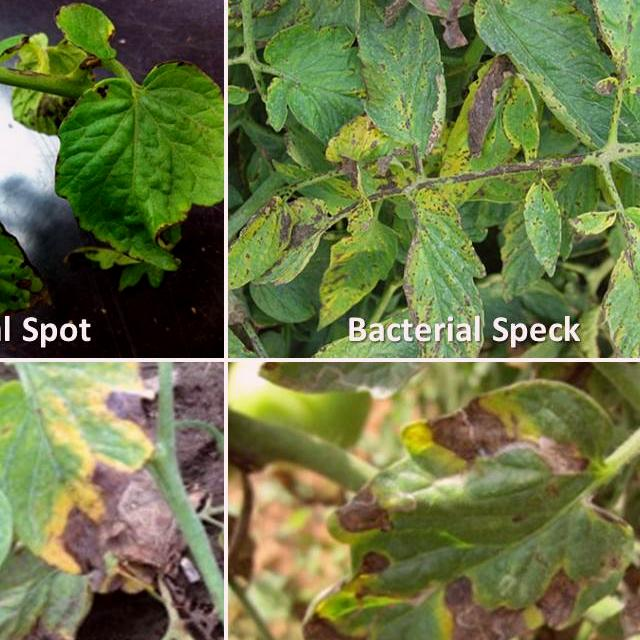Tomato Early blight leaf: (0, 373, 170, 640), (27, 69, 222, 300), (477, 0, 640, 195), (386, 165, 493, 353), (343, 0, 457, 171), (0, 71, 46, 339), (562, 197, 640, 350), (511, 158, 582, 275), (496, 65, 547, 156)
